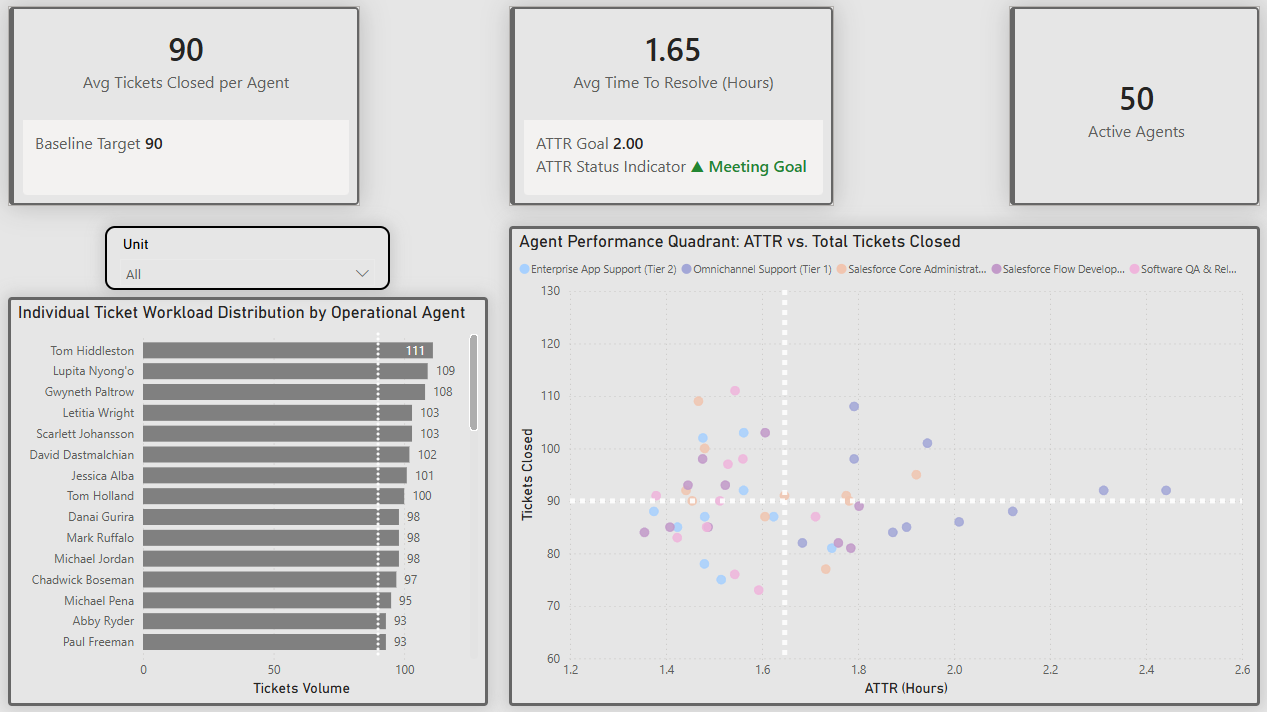

The page's visual inventory and layout, read from the dashboard file:
{"tool":"powerbi","page":{"name":"Resource Productivity & Capacity Planning","canvas":[1280,720],"ordinal":1},"visuals":[{"type":"group","id":"g1","title":"Group 1","box":[13.9,7.8,1252.2,200.2],"z":0},{"type":"cardVisual","fields":{"Data":["_Measures.Avg Tickets Closed per Agent"]},"box":[13.9,7.8,352.2,199.8],"z":0,"group":"g1"},{"type":"clusteredBarChart","title":"Individual Ticket Workload Distribution by Operational Agent","fields":{"Category":["dim_agents.Agent_Name"],"Y":["CountNonNull(fact_tickets.Ticket_ID)"]},"box":[14,299,480,409],"z":0,"group":"g2"},{"type":"cardVisual","fields":{"Data":["_Measures.Avg Resolution Time"]},"box":[514.8,8,325,200],"z":1000,"group":"g1"},{"type":"slicer","fields":{"Values":["dim_units.Unit_Name"]},"box":[111,228,285,64],"z":1000,"group":"g2"},{"type":"scatterChart","title":"Agent Performance Quadrant: ATTR vs. Total Tickets Closed","fields":{"Category":["dim_agents.Agent_Name"],"X":["_Measures.Avg Time To Resolve (Hours)"],"Y":["_Measures.Avg Tickets Closed per Agent"],"Series":["dim_units.Unit_Name"]},"box":[515,228,751,480],"z":1000},{"type":"cardVisual","fields":{"Data":["_Measures.Active Agents"]},"box":[1015.2,7.8,250.9,200],"z":2000,"group":"g1"},{"type":"group","id":"g2","title":"Group 2","box":[14,228,480,480],"z":2000}]}

Visuals, with their boxes in screenshot pixels (x1, y1, x2, y2), scaled from the page's 1280x720 canvas onto the 1267x712 screenshot:
"Group 1" group: bbox=(14, 8, 1253, 206)
cardVisual - _Measures.Avg Tickets Closed per Agent: bbox=(14, 8, 362, 205)
"Individual Ticket Workload Distribution by Operational Agent" clusteredBarChart: bbox=(14, 296, 489, 700)
cardVisual - _Measures.Avg Resolution Time: bbox=(510, 8, 831, 206)
slicer - dim_units.Unit_Name: bbox=(110, 225, 392, 289)
"Agent Performance Quadrant: ATTR vs. Total Tickets Closed" scatterChart: bbox=(510, 225, 1253, 700)
cardVisual - _Measures.Active Agents: bbox=(1005, 8, 1253, 205)
"Group 2" group: bbox=(14, 225, 489, 700)
